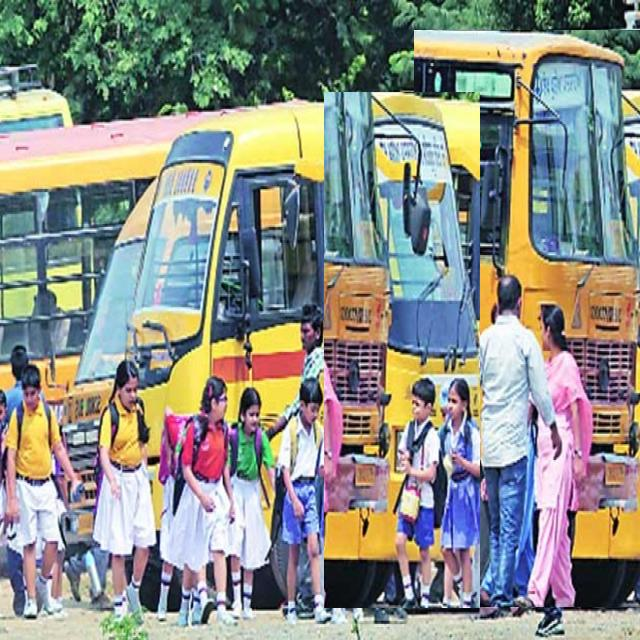bus: (414, 31, 640, 607), (128, 101, 371, 458), (324, 92, 480, 608), (0, 112, 211, 391), (61, 180, 157, 549)
